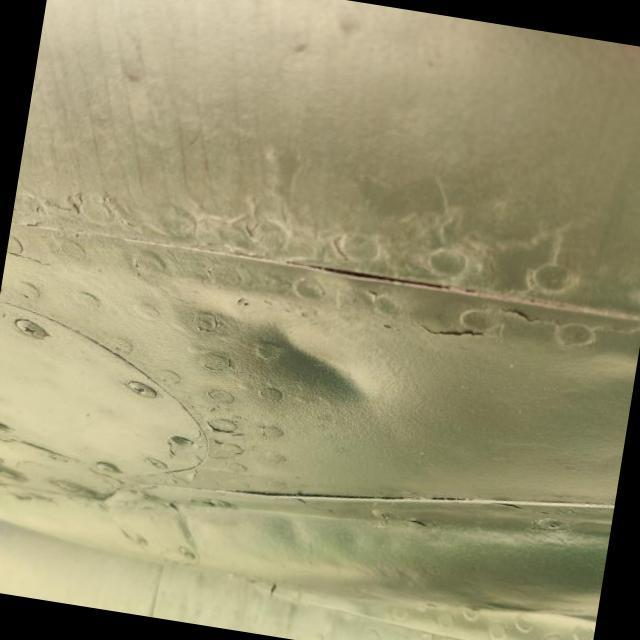Dent: (186, 270, 411, 453)
